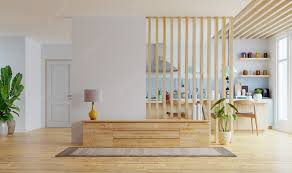Chair: (232, 98, 261, 137)
Lamp: (83, 87, 104, 121)
